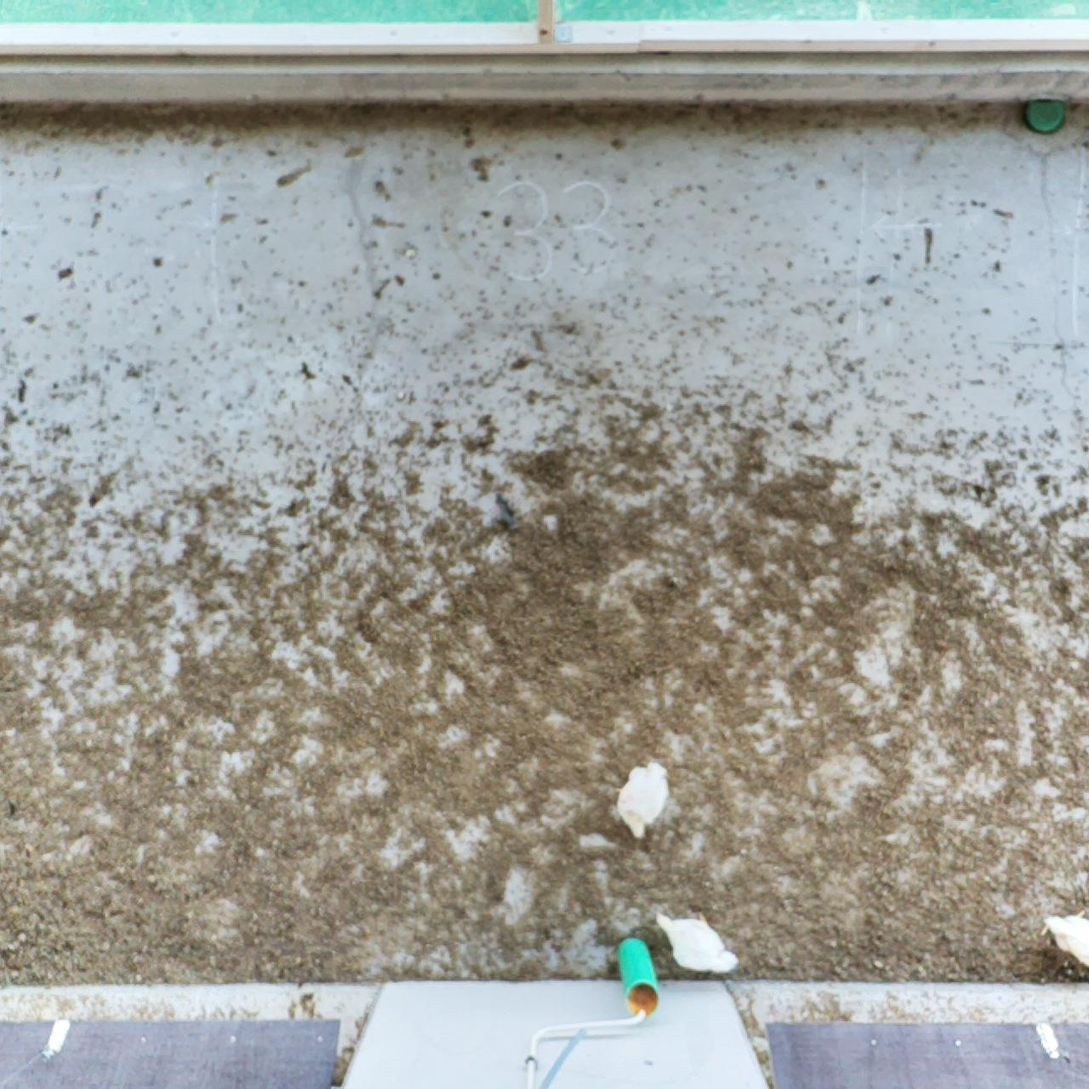chicken: (650, 904, 743, 980), (613, 757, 674, 843), (1038, 905, 1089, 974)
